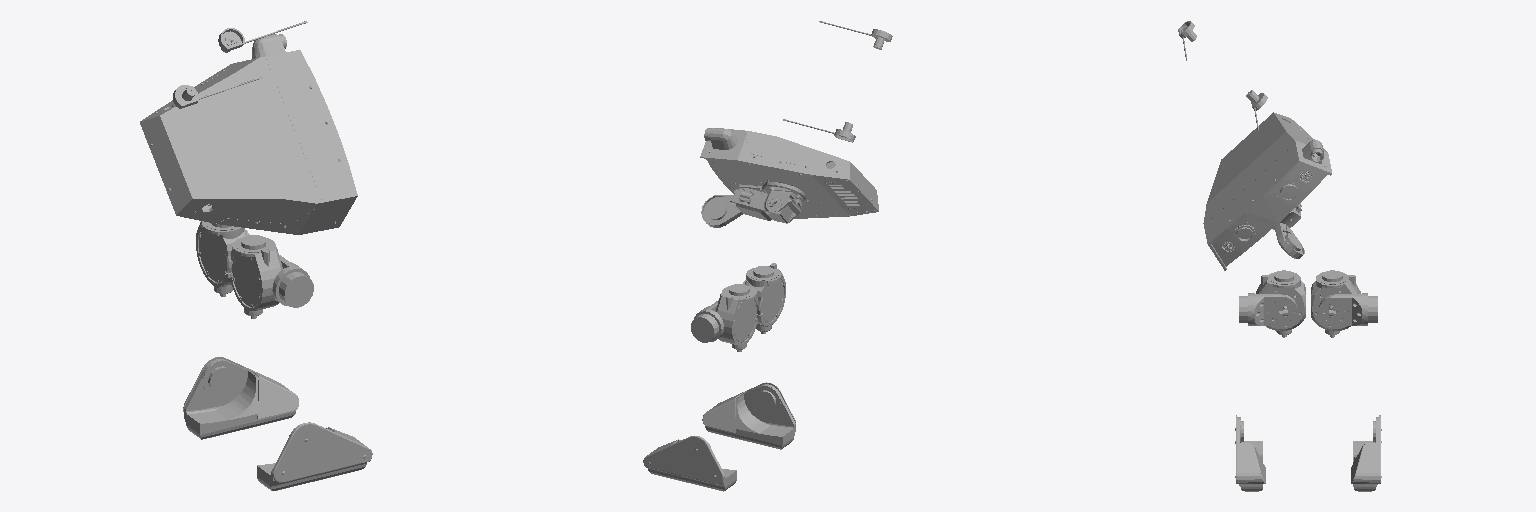
The robot description file, URDF, robot "BD-XURDFSimplifiedv2":
<?xml version="1.0" ?>
<!-- =================================================================================== -->
<!-- |    This document was autogenerated by xacro from [local-path]/Documents/Droids/BD-X/A1/dev/BD-XURDFSimplifiedv2_description/urdf/BD-XURDFSimplifiedv2.xacro | -->
<!-- |    EDITING THIS FILE BY HAND IS NOT RECOMMENDED                                 | -->
<!-- =================================================================================== -->
<robot xmlns:xacro="http://www.ros.org/wiki/xacro" name="BD-XURDFSimplifiedv2">
  <material name="silver">
    <color rgba="0.700 0.700 0.700 1"/>
  </material>

      <!-- Dummy root link without inertia -->
  <link name="dummy_link"/>
  <!-- Fixed joint connecting base_link to sw_bd0 -->
  <joint name="fixed_base" type="fixed">
    <parent link="dummy_link"/>
    <child link="base_link"/>
    <origin xyz="0 0 0" rpy="0 0 0"/>
  </joint>

  <link name="base_link">
    <inertial>
      <origin xyz="0.0 0.0 0.0" rpy="0 0 0"/>
      <mass value="0.0"/>
      <inertia ixx="0.0" iyy="0.0" izz="0.0" ixy="0.0" iyz="0.0" ixz="0.0"/>
    </inertial>
    <visual>
      <origin xyz="0 0 0" rpy="0 0 0"/>
      <geometry>
        <mesh filename="package://bdx_description/meshes/base_link.stl" scale="0.001 0.001 0.001"/>
      </geometry>
      <material name="silver"/>
    </visual>
    <collision>
      <origin xyz="0 0 0" rpy="0 0 0"/>
      <geometry>
        <mesh filename="package://bdx_description/meshes/base_link.stl" scale="0.001 0.001 0.001"/>
      </geometry>
    </collision>
  </link>
  <link name="right_antenna">
    <inertial>
      <origin xyz="0.07855 -0.121396 -0.212607" rpy="0 0 0"/>
      <mass value="0.0"/>
      <inertia ixx="0.0" iyy="0.0" izz="0.0" ixy="0.0" iyz="0.0" ixz="0.0"/>
    </inertial>
    <visual>
      <origin xyz="0.07855 -0.121396 -0.212607" rpy="0 0 0"/>
      <geometry>
        <mesh filename="package://bdx_description/meshes/right_antenna.stl" scale="0.001 0.001 0.001"/>
      </geometry>
      <material name="silver"/>
    </visual>
    <collision>
      <origin xyz="0.07855 -0.121396 -0.212607" rpy="0 0 0"/>
      <geometry>
        <mesh filename="package://bdx_description/meshes/right_antenna.stl" scale="0.001 0.001 0.001"/>
      </geometry>
    </collision>
  </link>
  <link name="left_antenna">
    <inertial>
      <origin xyz="-0.07855 -0.121396 -0.212607" rpy="0 0 0"/>
      <mass value="0.0"/>
      <inertia ixx="0.0" iyy="0.0" izz="0.0" ixy="0.0" iyz="0.0" ixz="0.0"/>
    </inertial>
    <visual>
      <origin xyz="-0.07855 -0.121396 -0.212607" rpy="0 0 0"/>
      <geometry>
        <mesh filename="package://bdx_description/meshes/left_antenna.stl" scale="0.001 0.001 0.001"/>
      </geometry>
      <material name="silver"/>
    </visual>
    <collision>
      <origin xyz="-0.07855 -0.121396 -0.212607" rpy="0 0 0"/>
      <geometry>
        <mesh filename="package://bdx_description/meshes/left_antenna.stl" scale="0.001 0.001 0.001"/>
      </geometry>
    </collision>
  </link>
  <link name="head">
    <inertial>
      <origin xyz="0.0 0.029589 -0.13997" rpy="0 0 0"/>
      <mass value="0.0"/>
      <inertia ixx="0.0" iyy="0.0" izz="0.0" ixy="0.0" iyz="0.0" ixz="0.0"/>
    </inertial>
    <visual>
      <origin xyz="-0.0 0.029589 -0.13997" rpy="0 0 0"/>
      <geometry>
        <mesh filename="package://bdx_description/meshes/head.stl" scale="0.001 0.001 0.001"/>
      </geometry>
      <material name="silver"/>
    </visual>
    <collision>
      <origin xyz="-0.0 0.029589 -0.13997" rpy="0 0 0"/>
      <geometry>
        <mesh filename="package://bdx_description/meshes/head.stl" scale="0.001 0.001 0.001"/>
      </geometry>
    </collision>
  </link>
  <link name="neck_yaw">
    <inertial>
      <origin xyz="-1.1e-05 -0.025143 -0.142949" rpy="0 0 0"/>
      <mass value="0.0"/>
      <inertia ixx="0.0" iyy="0.0" izz="0.0" ixy="0.0" iyz="0.0" ixz="0.0"/>
    </inertial>
    <visual>
      <origin xyz="-1.1e-05 -0.025143 -0.142949" rpy="0 0 0"/>
      <geometry>
        <mesh filename="package://bdx_description/meshes/neck_yaw.stl" scale="0.001 0.001 0.001"/>
      </geometry>
      <material name="silver"/>
    </visual>
    <collision>
      <origin xyz="-1.1e-05 -0.025143 -0.142949" rpy="0 0 0"/>
      <geometry>
        <mesh filename="package://bdx_description/meshes/neck_yaw.stl" scale="0.001 0.001 0.001"/>
      </geometry>
    </collision>
  </link>
  <link name="neck_pitch">
    <inertial>
      <origin xyz="0.021882 -0.02779 -0.111051" rpy="0 0 0"/>
      <mass value="0.0"/>
      <inertia ixx="0.0" iyy="0.0" izz="0.0" ixy="0.0" iyz="0.0" ixz="0.0"/>
    </inertial>
    <visual>
      <origin xyz="0.021882 -0.02779 -0.111051" rpy="0 0 0"/>
      <geometry>
        <mesh filename="package://bdx_description/meshes/neck_pitch.stl" scale="0.001 0.001 0.001"/>
      </geometry>
      <material name="silver"/>
    </visual>
    <collision>
      <origin xyz="0.021882 -0.02779 -0.111051" rpy="0 0 0"/>
      <geometry>
        <mesh filename="package://bdx_description/meshes/neck_pitch.stl" scale="0.001 0.001 0.001"/>
      </geometry>
    </collision>
  </link>
  <link name="neck_extension">
    <inertial>
      <origin xyz="0.004148 0.097795 -0.060489" rpy="0 0 0"/>
      <mass value="0.0"/>
      <inertia ixx="0.0" iyy="0.0" izz="0.0" ixy="0.0" iyz="0.0" ixz="0.0"/>
    </inertial>
    <visual>
      <origin xyz="0.004148 0.097795 -0.060489" rpy="0 0 0"/>
      <geometry>
        <mesh filename="package://bdx_description/meshes/neck_extension.stl" scale="0.001 0.001 0.001"/>
      </geometry>
      <material name="silver"/>
    </visual>
    <collision>
      <origin xyz="0.004148 0.097795 -0.060489" rpy="0 0 0"/>
      <geometry>
        <mesh filename="package://bdx_description/meshes/neck_extension.stl" scale="0.001 0.001 0.001"/>
      </geometry>
    </collision>
  </link>
  <link name="left_foot">
    <inertial>
      <origin xyz="-0.123586 0.015986 0.294812" rpy="0 0 0"/>
      <mass value="0.0"/>
      <inertia ixx="0.0" iyy="0.0" izz="0.0" ixy="0.0" iyz="0.0" ixz="0.0"/>
    </inertial>
    <visual>
      <origin xyz="-0.123586 0.015986 0.294812" rpy="0 0 0"/>
      <geometry>
        <mesh filename="package://bdx_description/meshes/left_foot.stl" scale="0.001 0.001 0.001"/>
      </geometry>
      <material name="silver"/>
    </visual>
    <collision>
      <origin xyz="-0.123586 0.015986 0.294812" rpy="0 0 0"/>
      <geometry>
        <mesh filename="package://bdx_description/meshes/left_foot.stl" scale="0.001 0.001 0.001"/>
      </geometry>
    </collision>
  </link>
  <link name="left_lower_leg">
    <inertial>
      <origin xyz="-0.133053 0.016698 0.157628" rpy="0 0 0"/>
      <mass value="0.0"/>
      <inertia ixx="0.0" iyy="0.0" izz="0.0" ixy="0.0" iyz="0.0" ixz="0.0"/>
    </inertial>
    <visual>
      <origin xyz="-0.133053 0.016698 0.157628" rpy="0 0 0"/>
      <geometry>
        <mesh filename="package://bdx_description/meshes/left_lower_leg.stl" scale="0.001 0.001 0.001"/>
      </geometry>
      <material name="silver"/>
    </visual>
    <collision>
      <origin xyz="-0.133053 0.016698 0.157628" rpy="0 0 0"/>
      <geometry>
        <mesh filename="package://bdx_description/meshes/left_lower_leg.stl" scale="0.001 0.001 0.001"/>
      </geometry>
    </collision>
  </link>
  <link name="left_upper_leg">
    <inertial>
      <origin xyz="-0.133053 0.027291 0.039591" rpy="0 0 0"/>
      <mass value="0.0"/>
      <inertia ixx="0.0" iyy="0.0" izz="0.0" ixy="0.0" iyz="0.0" ixz="0.0"/>
    </inertial>
    <visual>
      <origin xyz="-0.133053 0.027291 0.039591" rpy="0 0 0"/>
      <geometry>
        <mesh filename="package://bdx_description/meshes/left_upper_leg.stl" scale="0.001 0.001 0.001"/>
      </geometry>
      <material name="silver"/>
    </visual>
    <collision>
      <origin xyz="-0.133053 0.027291 0.039591" rpy="0 0 0"/>
      <geometry>
        <mesh filename="package://bdx_description/meshes/left_upper_leg.stl" scale="0.001 0.001 0.001"/>
      </geometry>
    </collision>
  </link>
  <link name="left_hip">
    <inertial>
      <origin xyz="-0.051164 0.007949 0.037966" rpy="0 0 0"/>
      <mass value="0.0"/>
      <inertia ixx="0.0" iyy="0.0" izz="0.0" ixy="0.0" iyz="0.0" ixz="0.0"/>
    </inertial>
    <visual>
      <origin xyz="-0.051164 0.007949 0.037966" rpy="0 0 0"/>
      <geometry>
        <mesh filename="package://bdx_description/meshes/left_hip.stl" scale="0.001 0.001 0.001"/>
      </geometry>
      <material name="silver"/>
    </visual>
    <collision>
      <origin xyz="-0.051164 0.007949 0.037966" rpy="0 0 0"/>
      <geometry>
        <mesh filename="package://bdx_description/meshes/left_hip.stl" scale="0.001 0.001 0.001"/>
      </geometry>
    </collision>
  </link>
  <link name="left_hip_rotation">
    <inertial>
      <origin xyz="-0.046212 0.00171 -0.022391" rpy="0 0 0"/>
      <mass value="0.0"/>
      <inertia ixx="0.0" iyy="0.0" izz="0.0" ixy="0.0" iyz="0.0" ixz="0.0"/>
    </inertial>
    <visual>
      <origin xyz="-0.046212 0.00171 -0.022391" rpy="0 0 0"/>
      <geometry>
        <mesh filename="package://bdx_description/meshes/left_hip_rotation.stl" scale="0.001 0.001 0.001"/>
      </geometry>
      <material name="silver"/>
    </visual>
    <collision>
      <origin xyz="-0.046212 0.00171 -0.022391" rpy="0 0 0"/>
      <geometry>
        <mesh filename="package://bdx_description/meshes/left_hip_rotation.stl" scale="0.001 0.001 0.001"/>
      </geometry>
    </collision>
  </link>
  <link name="right_foot">
    <inertial>
      <origin xyz="0.124257 0.015977 0.294811" rpy="0 0 0"/>
      <mass value="0.0"/>
      <inertia ixx="0.0" iyy="0.0" izz="0.0" ixy="0.0" iyz="0.0" ixz="0.0"/>
    </inertial>
    <visual>
      <origin xyz="0.124257 0.015977 0.294811" rpy="0 0 0"/>
      <geometry>
        <mesh filename="package://bdx_description/meshes/right_foot.stl" scale="0.001 0.001 0.001"/>
      </geometry>
      <material name="silver"/>
    </visual>
    <collision>
      <origin xyz="0.124257 0.015977 0.294811" rpy="0 0 0"/>
      <geometry>
        <mesh filename="package://bdx_description/meshes/right_foot.stl" scale="0.001 0.001 0.001"/>
      </geometry>
    </collision>
  </link>
  <link name="right_lower_leg">
    <inertial>
      <origin xyz="0.133723 0.01669 0.157628" rpy="0 0 0"/>
      <mass value="0.0"/>
      <inertia ixx="0.0" iyy="0.0" izz="0.0" ixy="0.0" iyz="0.0" ixz="0.0"/>
    </inertial>
    <visual>
      <origin xyz="0.133723 0.01669 0.157628" rpy="0 0 0"/>
      <geometry>
        <mesh filename="package://bdx_description/meshes/right_lower_leg.stl" scale="0.001 0.001 0.001"/>
      </geometry>
      <material name="silver"/>
    </visual>
    <collision>
      <origin xyz="0.133723 0.01669 0.157628" rpy="0 0 0"/>
      <geometry>
        <mesh filename="package://bdx_description/meshes/right_lower_leg.stl" scale="0.001 0.001 0.001"/>
      </geometry>
    </collision>
  </link>
  <link name="right_upper_leg">
    <inertial>
      <origin xyz="0.133723 0.027282 0.03959" rpy="0 0 0"/>
      <mass value="0.0"/>
      <inertia ixx="0.0" iyy="0.0" izz="0.0" ixy="0.0" iyz="0.0" ixz="0.0"/>
    </inertial>
    <visual>
      <origin xyz="0.133723 0.027282 0.03959" rpy="0 0 0"/>
      <geometry>
        <mesh filename="package://bdx_description/meshes/right_upper_leg.stl" scale="0.001 0.001 0.001"/>
      </geometry>
      <material name="silver"/>
    </visual>
    <collision>
      <origin xyz="0.133723 0.027282 0.03959" rpy="0 0 0"/>
      <geometry>
        <mesh filename="package://bdx_description/meshes/right_upper_leg.stl" scale="0.001 0.001 0.001"/>
      </geometry>
    </collision>
  </link>
  <link name="right_hip">
    <inertial>
      <origin xyz="0.051835 0.00794 0.037965" rpy="0 0 0"/>
      <mass value="0.0"/>
      <inertia ixx="0.0" iyy="0.0" izz="0.0" ixy="0.0" iyz="0.0" ixz="0.0"/>
    </inertial>
    <visual>
      <origin xyz="0.051835 0.00794 0.037965" rpy="0 0 0"/>
      <geometry>
        <mesh filename="package://bdx_description/meshes/right_hip.stl" scale="0.001 0.001 0.001"/>
      </geometry>
      <material name="silver"/>
    </visual>
    <collision>
      <origin xyz="0.051835 0.00794 0.037965" rpy="0 0 0"/>
      <geometry>
        <mesh filename="package://bdx_description/meshes/right_hip.stl" scale="0.001 0.001 0.001"/>
      </geometry>
    </collision>
  </link>
  <link name="right_hip_rotation">
    <inertial>
      <origin xyz="0.046882 0.001702 -0.022392" rpy="0 0 0"/>
      <mass value="0.0"/>
      <inertia ixx="0.0" iyy="0.0" izz="0.0" ixy="0.0" iyz="0.0" ixz="0.0"/>
    </inertial>
    <visual>
      <origin xyz="0.046882 0.001702 -0.022392" rpy="0 0 0"/>
      <geometry>
        <mesh filename="package://bdx_description/meshes/right_hip_rotation.stl" scale="0.001 0.001 0.001"/>
      </geometry>
      <material name="silver"/>
    </visual>
    <collision>
      <origin xyz="0.046882 0.001702 -0.022392" rpy="0 0 0"/>
      <geometry>
        <mesh filename="package://bdx_description/meshes/right_hip_rotation.stl" scale="0.001 0.001 0.001"/>
      </geometry>
    </collision>
  </link>
  <link name="left_foot_pad">
    <inertial>
      <origin xyz="-0.10856 -0.047557 0.351528" rpy="0 0 0"/>
      <mass value="0.0"/>
      <inertia ixx="0.0" iyy="0.0" izz="0.0" ixy="0.0" iyz="0.0" ixz="0.0"/>
    </inertial>
    <visual>
      <origin xyz="-0.10856 -0.047557 0.351528" rpy="0 0 0"/>
      <geometry>
        <mesh filename="package://bdx_description/meshes/left_foot_pad.stl" scale="0.001 0.001 0.001"/>
      </geometry>
      <material name="silver"/>
    </visual>
    <collision>
      <origin xyz="-0.10856 -0.047557 0.351528" rpy="0 0 0"/>
      <geometry>
        <mesh filename="package://bdx_description/meshes/left_foot_pad.stl" scale="0.001 0.001 0.001"/>
      </geometry>
    </collision>
  </link>
  <link name="right_foot_pad">
    <inertial>
      <origin xyz="0.109231 -0.047566 0.351527" rpy="0 0 0"/>
      <mass value="0.0"/>
      <inertia ixx="0.0" iyy="0.0" izz="0.0" ixy="0.0" iyz="0.0" ixz="0.0"/>
    </inertial>
    <visual>
      <origin xyz="0.109231 -0.047566 0.351527" rpy="0 0 0"/>
      <geometry>
        <mesh filename="package://bdx_description/meshes/right_foot_pad.stl" scale="0.001 0.001 0.001"/>
      </geometry>
      <material name="silver"/>
    </visual>
    <collision>
      <origin xyz="0.109231 -0.047566 0.351527" rpy="0 0 0"/>
      <geometry>
        <mesh filename="package://bdx_description/meshes/right_foot_pad.stl" scale="0.001 0.001 0.001"/>
      </geometry>
    </collision>
  </link>
  <joint name="right_antenna" type="revolute">
    <origin xyz="-0.07855 0.150985 0.072637" rpy="0 0 0"/>
    <parent link="head"/>
    <child link="right_antenna"/>
    <axis xyz="-1.0 -0.0 -0.0"/>
    <limit upper="2.96706" lower="0.261799" effort="100.0" velocity="100.0"/>
  </joint>
  <joint name="left_antenna" type="revolute">
    <origin xyz="0.07855 0.150985 0.072637" rpy="0 0 0"/>
    <parent link="head"/>
    <child link="left_antenna"/>
    <axis xyz="1.0 0.0 -0.0"/>
    <limit upper="-0.261799" lower="-2.96706" effort="100.0" velocity="100.0"/>
  </joint>
  <joint name="head_roll" type="revolute">
    <origin xyz="-1.1e-05 -0.054732 -0.002979" rpy="0 0 0"/>
    <parent link="neck_yaw"/>
    <child link="head"/>
    <axis xyz="0.0 -0.95066 -0.310236"/>
    <limit upper="0.523599" lower="-0.523599" effort="100.0" velocity="100.0"/>
  </joint>
  <joint name="head_yaw" type="revolute">
    <origin xyz="0.021893 -0.002647 0.031898" rpy="0 0 0"/>
    <parent link="neck_pitch"/>
    <child link="neck_yaw"/>
    <axis xyz="0.0 -0.310236 0.95066"/>
    <limit upper="1.570796" lower="-1.570796" effort="100.0" velocity="100.0"/>
  </joint>
  <joint name="head_pitch" type="revolute">
    <origin xyz="-0.017734 0.125585 0.050562" rpy="0 0 0"/>
    <parent link="neck_extension"/>
    <child link="neck_pitch"/>
    <axis xyz="-1.0 -0.0 -0.0"/>
    <limit upper="1.570796" lower="0.0" effort="100.0" velocity="100.0"/>
  </joint>
  <joint name="neck_pitch" type="revolute">
    <origin xyz="-0.004148 -0.097795 0.060489" rpy="0 0 0"/>
    <parent link="base_link"/>
    <child link="neck_extension"/>
    <axis xyz="-1.0 -0.0 0.0"/>
    <limit upper="-0.087266" lower="-1.48353" effort="100.0" velocity="100.0"/>
  </joint>
  <joint name="left_ankle" type="revolute">
    <origin xyz="-0.009467 0.000712 -0.137184" rpy="0 0 0"/>
    <parent link="left_lower_leg"/>
    <child link="left_foot"/>
    <axis xyz="1.0 -0.0 -0.0"/>
    <limit upper="1.396263" lower="-1.22173" effort="100.0" velocity="100.0"/>
  </joint>
  <joint name="left_knee" type="revolute">
    <origin xyz="0.0 0.010593 -0.118037" rpy="0 0 0"/>
    <parent link="left_upper_leg"/>
    <child link="left_lower_leg"/>
    <axis xyz="-1.0 -0.0 1e-06"/>
    <limit upper="2.094395" lower="0.0" effort="100.0" velocity="100.0"/>
  </joint>
  <joint name="left_hip_pitch" type="revolute">
    <origin xyz="0.081889 -0.019342 -0.001625" rpy="0 0 0"/>
    <parent link="left_hip"/>
    <child link="left_upper_leg"/>
    <axis xyz="1.0 0.0 -1e-06"/>
    <limit upper="1.570796" lower="-1.570796" effort="100.0" velocity="100.0"/>
  </joint>
  <joint name="left_hip_roll" type="revolute">
    <origin xyz="0.004952 -0.006239 -0.060357" rpy="0 0 0"/>
    <parent link="left_hip_rotation"/>
    <child link="left_hip"/>
    <axis xyz="0.0 -0.99649 -0.083715"/>
    <limit upper="0.523599" lower="-0.523599" effort="100.0" velocity="100.0"/>
  </joint>
  <joint name="left_hip_yaw" type="revolute">
    <origin xyz="0.046212 -0.00171 0.022391" rpy="0 0 0"/>
    <parent link="base_link"/>
    <child link="left_hip_rotation"/>
    <axis xyz="-0.0 0.083715 -0.99649"/>
    <limit upper="0.436332" lower="-0.436332" effort="100.0" velocity="100.0"/>
  </joint>
  <joint name="right_ankle" type="revolute">
    <origin xyz="0.009466 0.000713 -0.137183" rpy="0 0 0"/>
    <parent link="right_lower_leg"/>
    <child link="right_foot"/>
    <axis xyz="-1.0 -0.0 0.0"/>
    <limit upper="1.22173" lower="-1.396263" effort="100.0" velocity="100.0"/>
  </joint>
  <joint name="right_knee" type="revolute">
    <origin xyz="0.0 0.010592 -0.118038" rpy="0 0 0"/>
    <parent link="right_upper_leg"/>
    <child link="right_lower_leg"/>
    <axis xyz="1.0 0.0 0.0"/>
    <limit upper="0.0" lower="-2.094395" effort="100.0" velocity="100.0"/>
  </joint>
  <joint name="right_hip_pitch" type="revolute">
    <origin xyz="-0.081888 -0.019342 -0.001625" rpy="0 0 0"/>
    <parent link="right_hip"/>
    <child link="right_upper_leg"/>
    <axis xyz="-1.0 -0.0 -0.0"/>
    <limit upper="1.570796" lower="-1.570796" effort="100.0" velocity="100.0"/>
  </joint>
  <joint name="right_hip_roll" type="revolute">
    <origin xyz="-0.004953 -0.006238 -0.060357" rpy="0 0 0"/>
    <parent link="right_hip_rotation"/>
    <child link="right_hip"/>
    <axis xyz="0.0 -0.99649 -0.083715"/>
    <limit upper="0.523599" lower="-0.523599" effort="100.0" velocity="100.0"/>
  </joint>
  <joint name="right_hip_yaw" type="revolute">
    <origin xyz="-0.046882 -0.001702 0.022392" rpy="0 0 0"/>
    <parent link="base_link"/>
    <child link="right_hip_rotation"/>
    <axis xyz="-0.0 0.083715 -0.99649"/>
    <limit upper="0.436332" lower="-0.436332" effort="100.0" velocity="100.0"/>
  </joint>
  <joint name="left_foot_pad" type="fixed">
    <origin xyz="-0.015026 0.063543 -0.056716" rpy="0 0 0"/>
    <parent link="left_foot"/>
    <child link="left_foot_pad"/>
    <axis xyz="0 0 0"/>
  </joint>
  <joint name="right_foot_pad" type="fixed">
    <origin xyz="0.015026 0.063543 -0.056716" rpy="0 0 0"/>
    <parent link="right_foot"/>
    <child link="right_foot_pad"/>
    <axis xyz="0 0 0"/>
  </joint>
</robot>

--- What the picture shows (computed from the rendered views, not written in the file) ---
The picture shows the robot from 3 angles, left to right: view 1: azimuth 30°, elevation 25°; view 2: azimuth 150°, elevation 25°; view 3: azimuth 270°, elevation 25°; orthographic projection.
Robot: BD-XURDFSimplifiedv2 — 20 links, 19 joints (16 revolute, 3 fixed); root link dummy_link; default pose: joints at zero except 3 at the middle of their limits (right_antenna = 1.61, left_antenna = -1.61, neck_pitch = -0.7854).
Links seen in each view (by area): view 1: head, left_foot, right_foot, right_hip_rotation, left_hip_rotation, right_hip, right_antenna, left_antenna, right_foot_pad, left_foot_pad; view 2: head, right_foot, left_foot, neck_extension, left_hip_rotation, right_hip_rotation, left_hip, neck_pitch; view 3: head, left_hip, right_hip, left_foot, right_foot, right_hip_rotation, left_hip_rotation, neck_extension.
Link boxes in pixels (x1,y1,x2,y2): head: [140, 34, 357, 234]; left_foot: [183, 357, 298, 434]; right_foot: [257, 422, 372, 486]; right_hip_rotation: [231, 235, 282, 318]; left_hip_rotation: [196, 221, 246, 296]; right_hip: [272, 255, 313, 307]; right_antenna: [218, 21, 307, 52]; left_antenna: [173, 76, 262, 108]; right_foot_pad: [257, 464, 366, 490]; left_foot_pad: [186, 412, 295, 439]; head: [700, 128, 878, 218]; right_foot: [702, 382, 795, 445]; left_foot: [643, 436, 736, 487]; neck_extension: [701, 188, 793, 227]; left_hip_rotation: [716, 284, 757, 351]; right_hip_rotation: [745, 263, 785, 333]; left_hip: [691, 300, 723, 342]; neck_pitch: [768, 190, 801, 221]; head: [1203, 112, 1331, 270]; left_hip: [1319, 293, 1377, 325]; right_hip: [1239, 293, 1297, 325]; left_foot: [1351, 415, 1381, 486]; right_foot: [1235, 415, 1265, 486]; right_hip_rotation: [1256, 270, 1305, 337]; left_hip_rotation: [1311, 270, 1360, 337]; neck_extension: [1273, 203, 1304, 258].
Bounding box of the posed robot: 0.3538 × 0.3924 × 0.8627 m (x, y, z).
Meshes: 19 distinct files referenced, 14 mesh visuals loaded (14 binary STL); not drawn: 5 (reference not matched to a file when rendering).